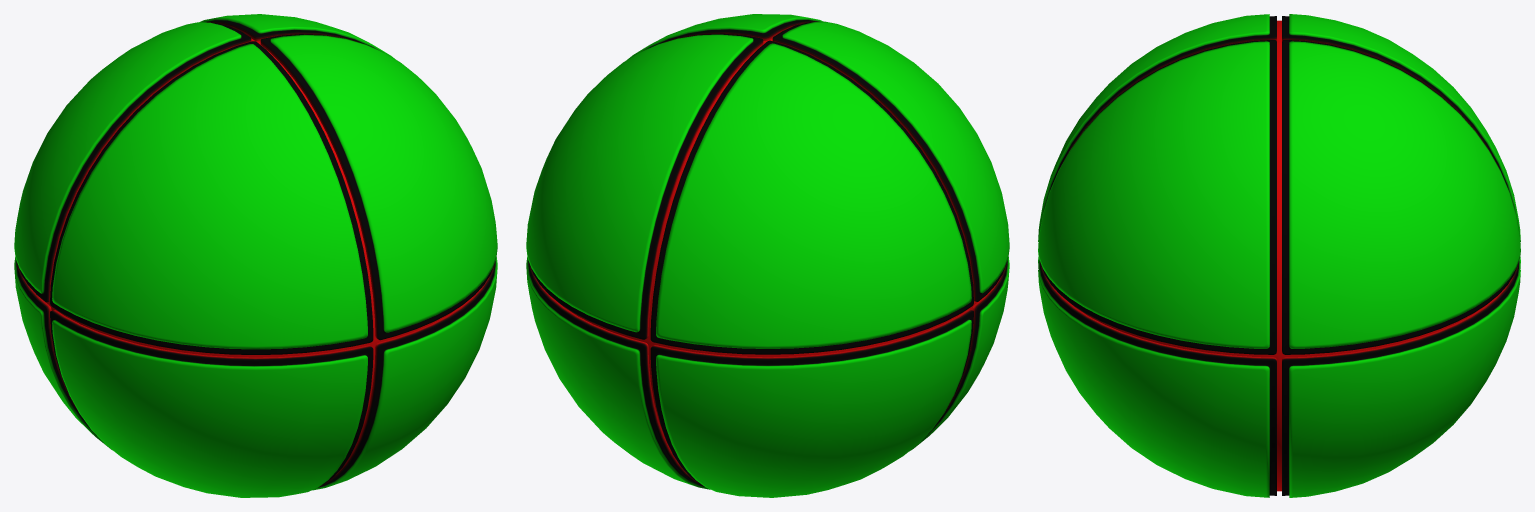
The model's file is VR level objects.FBX.
The picture shows the model from 3 angles, left to right: view 1: azimuth 30°, elevation 25°; view 2: azimuth 150°, elevation 25°; view 3: azimuth 270°, elevation 25°; orthographic projection.
Visible parts, largest first — view 1: SM_Ball_01; view 2: SM_Ball_01; view 3: SM_Ball_01.
Boxes of the visible parts, x1,y1,x2,y2 form: SM_Ball_01: [14, 14, 497, 497]; SM_Ball_01: [526, 14, 1009, 497]; SM_Ball_01: [1038, 14, 1520, 497].
Size of what is drawn, in the model's own units: 139 by 139 by 139.
